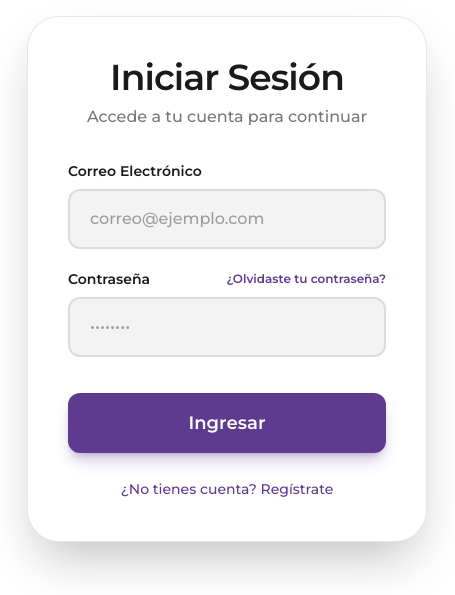
Test: AuthForm Component › debe renderizar el formulario en modo login y alternar al modo de registro y viceversa
Expected: the heading "Iniciar Sesión" is shown, [110,55,344,99]
Expected: the field with placeholder "correo@ejemplo.com" is shown, [68,189,386,249]
# Alternar a Registro
Click the button "¿No tienes cuenta? Regístrate".
click(227, 489)  # box [121,479,333,499]
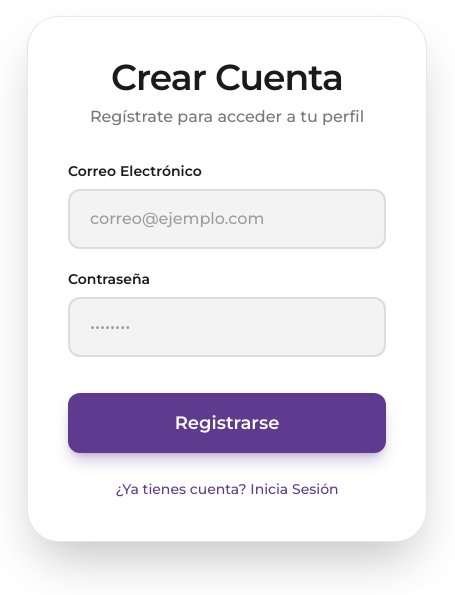
Now the heading "Crear Cuenta" is shown, box [111,55,343,99]
Now the button "Registrarse" is shown, box [68,393,386,453]
# Volver a Login
Click the button "¿Ya tienes cuenta? Inicia Sesión".
click(227, 489)  # box [115,479,339,499]
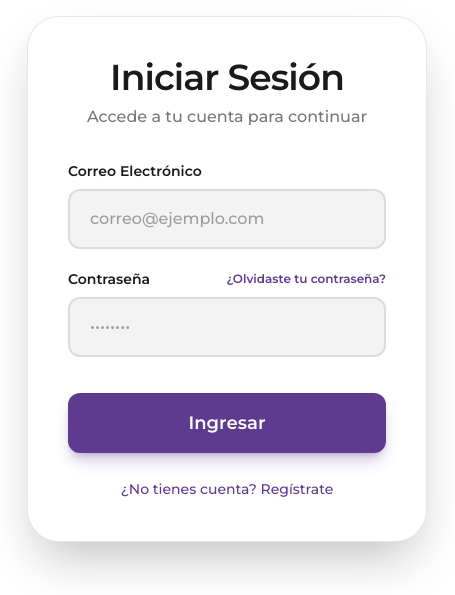
Now the heading "Iniciar Sesión" is shown, box [110,55,344,99]
